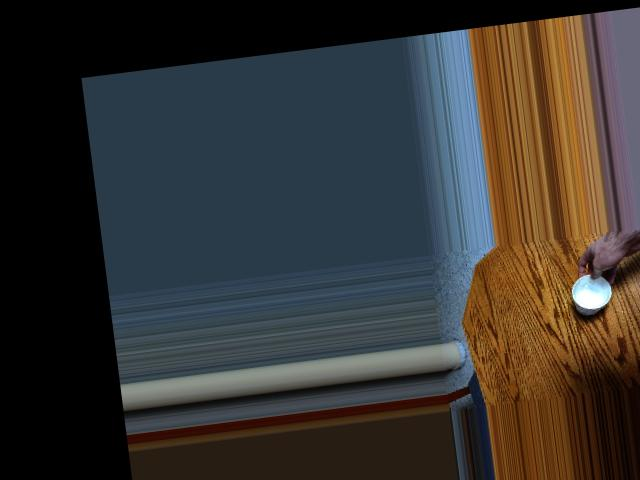cotage: (563, 264, 621, 316)
